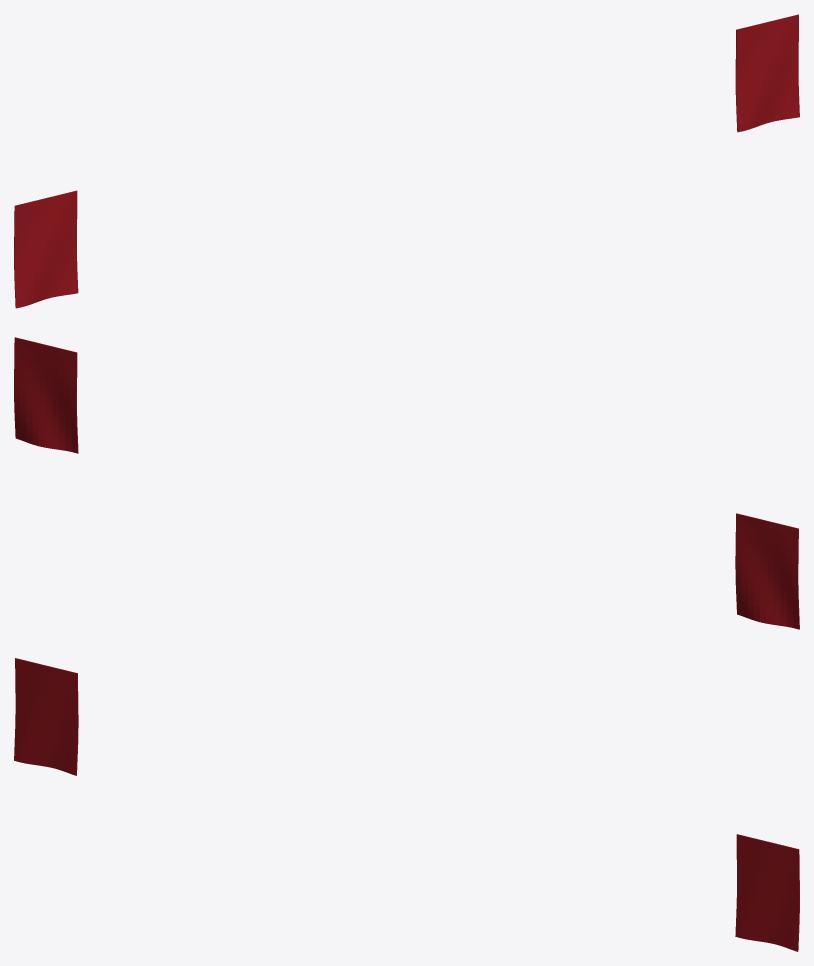
The model's file is GateJollyBanners.fbx.
3 views of the same model, one above another, from view 1: azimuth 30°, elevation 25°; view 2: azimuth 150°, elevation 25°; view 3: azimuth 330°, elevation 25° (orthographic).
Visible parts, largest first — view 1: FarBanner-1.001; view 2: FarBanner-1.001; view 3: FarBanner-1.001.
Part boxes in pixels (box(x1,y1,x2,y2)): FarBanner-1.001: box(14, 14, 799, 308); FarBanner-1.001: box(14, 337, 799, 629); FarBanner-1.001: box(14, 658, 799, 951).
Bounding box in the file's own units: 11302 × 1401 × 71.59.
